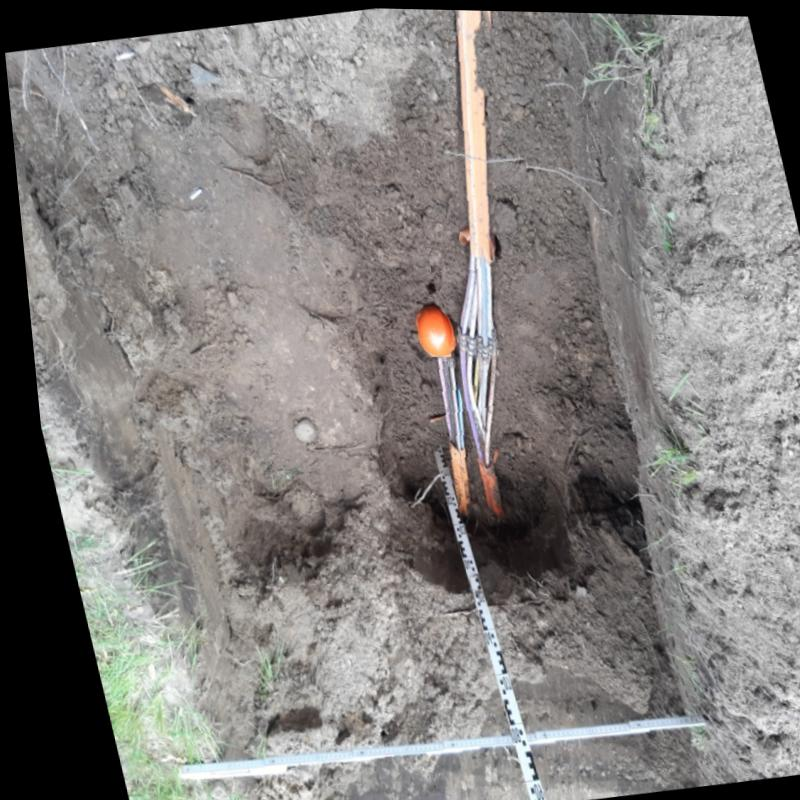Kugelmarker: (409, 306, 452, 356)
Orang-Speednetrohrchen: (453, 8, 493, 507), (434, 351, 460, 512)
